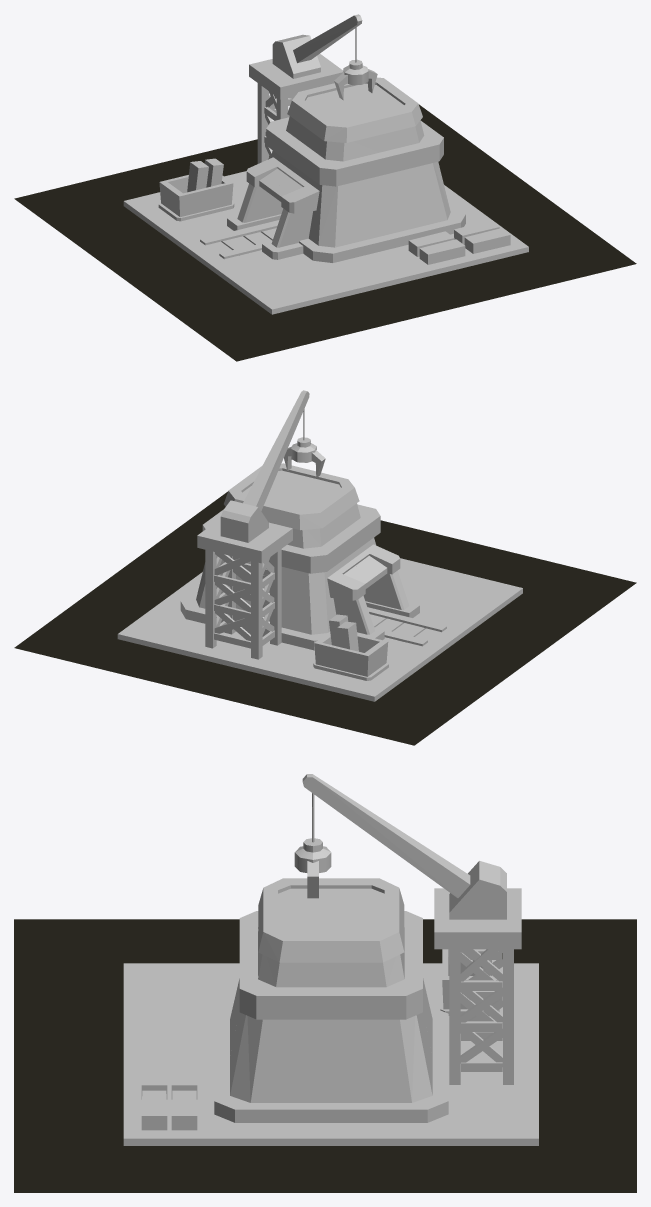
The model's file is yelianchang_02.FBX.
3 views of the same model, one above another, from view 1: azimuth 30°, elevation 25°; view 2: azimuth 150°, elevation 25°; view 3: azimuth 270°, elevation 25° (orthographic). The views are drawn at different scales.
Parts seen in each view (by area): view 1: yelianchang_02, Plane002; view 2: yelianchang_02, Plane002; view 3: yelianchang_02, Plane002.
Part boxes in pixels (box(x1,y1,x2,y2)): yelianchang_02: box(123, 14, 528, 314); Plane002: box(14, 104, 636, 361); yelianchang_02: box(117, 390, 522, 701); Plane002: box(14, 491, 636, 745); yelianchang_02: box(123, 774, 538, 1145); Plane002: box(14, 919, 636, 1192).
Bounding box in the file's own units: 1430 × 731 × 1377.
